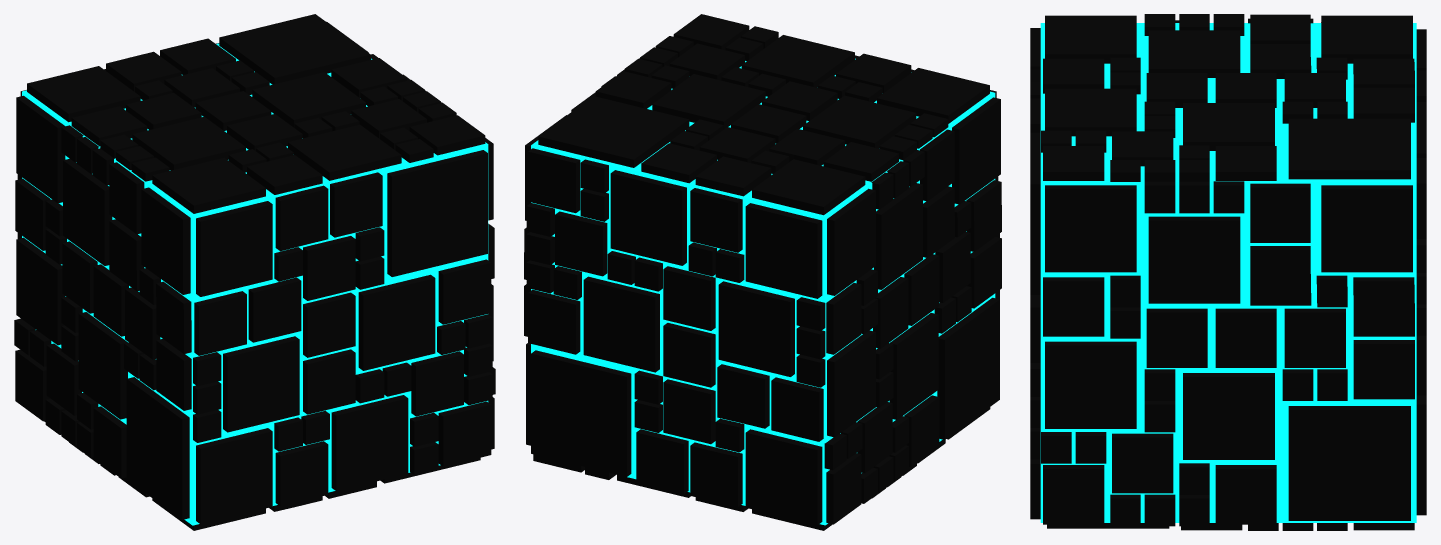
The model's file is BlackRock.fbx.
The picture shows the model from 3 angles, left to right: view 1: azimuth 30°, elevation 25°; view 2: azimuth 150°, elevation 25°; view 3: azimuth 270°, elevation 25°; orthographic projection. The views are drawn at different scales.
Parts seen in each view (by area): view 1: Plane; view 2: Plane; view 3: Plane.
Boxes of the visible parts, box(x1,y1,x2,y2) form: Plane: box(14, 14, 495, 530); Plane: box(524, 14, 1001, 530); Plane: box(1030, 14, 1426, 530).
Bounding box in the file's own units: 159 × 159 × 160.
